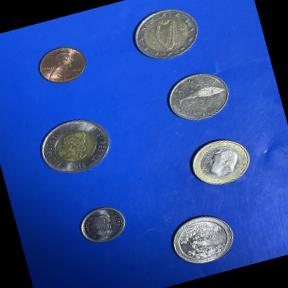1 Euro-B: (179, 128, 261, 198)
2 Euro-B: (121, 0, 211, 70)
Canada-10cent-B: (70, 198, 136, 254)
Canada-2Dollar-B: (27, 107, 123, 189)
Croatia-2Kune-B: (158, 62, 239, 132)
US-1cent-B: (30, 38, 94, 94)
US-25cent-B: (161, 204, 245, 275)
